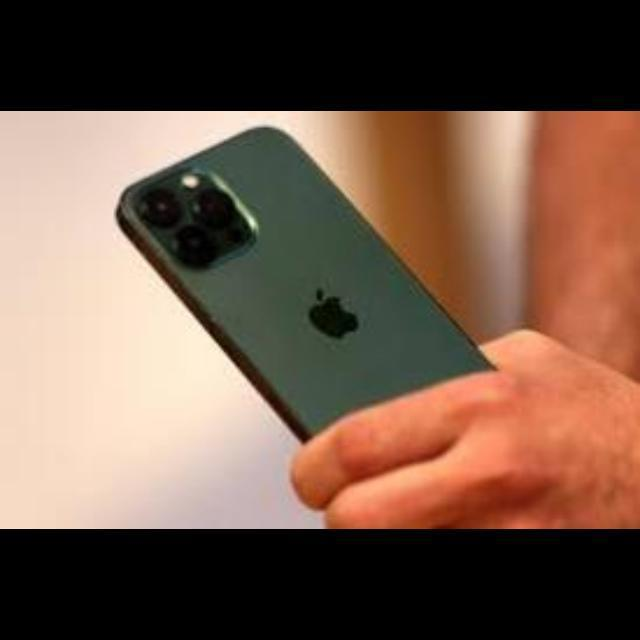PhoneUse: (118, 125, 496, 441)
